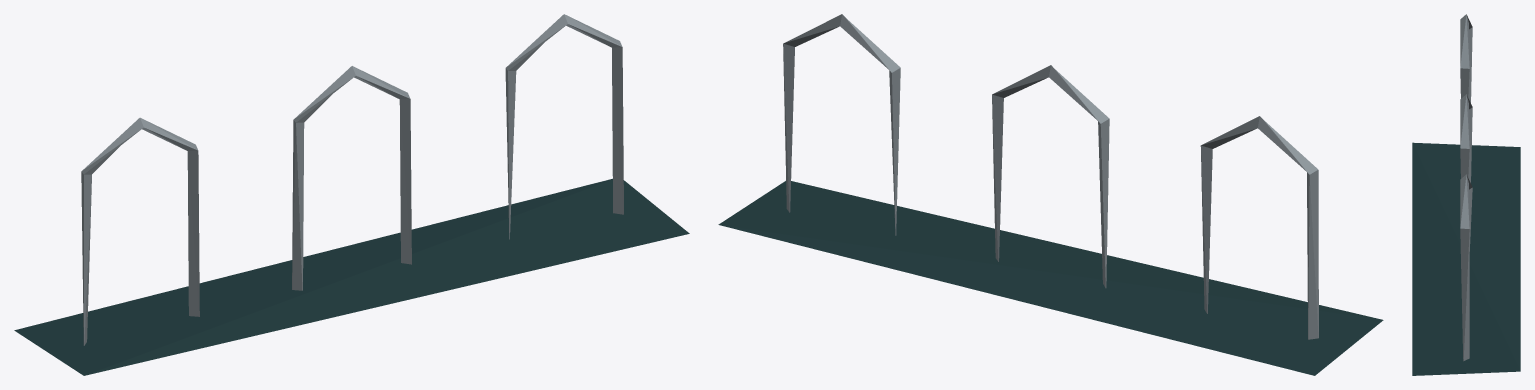
The model's file is bike_rack.fbx.
3 views of the same model, side by side, from view 1: azimuth 30°, elevation 25°; view 2: azimuth 150°, elevation 25°; view 3: azimuth 270°, elevation 25° (orthographic). The views are drawn at different scales.
Parts seen in each view (by area): view 1: bike_rack; view 2: bike_rack; view 3: bike_rack.
Part boxes in pixels (left/top/right/bottom): bike_rack: left=14, top=14, right=689, bottom=375; bike_rack: left=718, top=14, right=1383, bottom=375; bike_rack: left=1412, top=14, right=1520, bottom=375.
Bounding box in the file's own units: 2 × 0.7 × 0.4.
